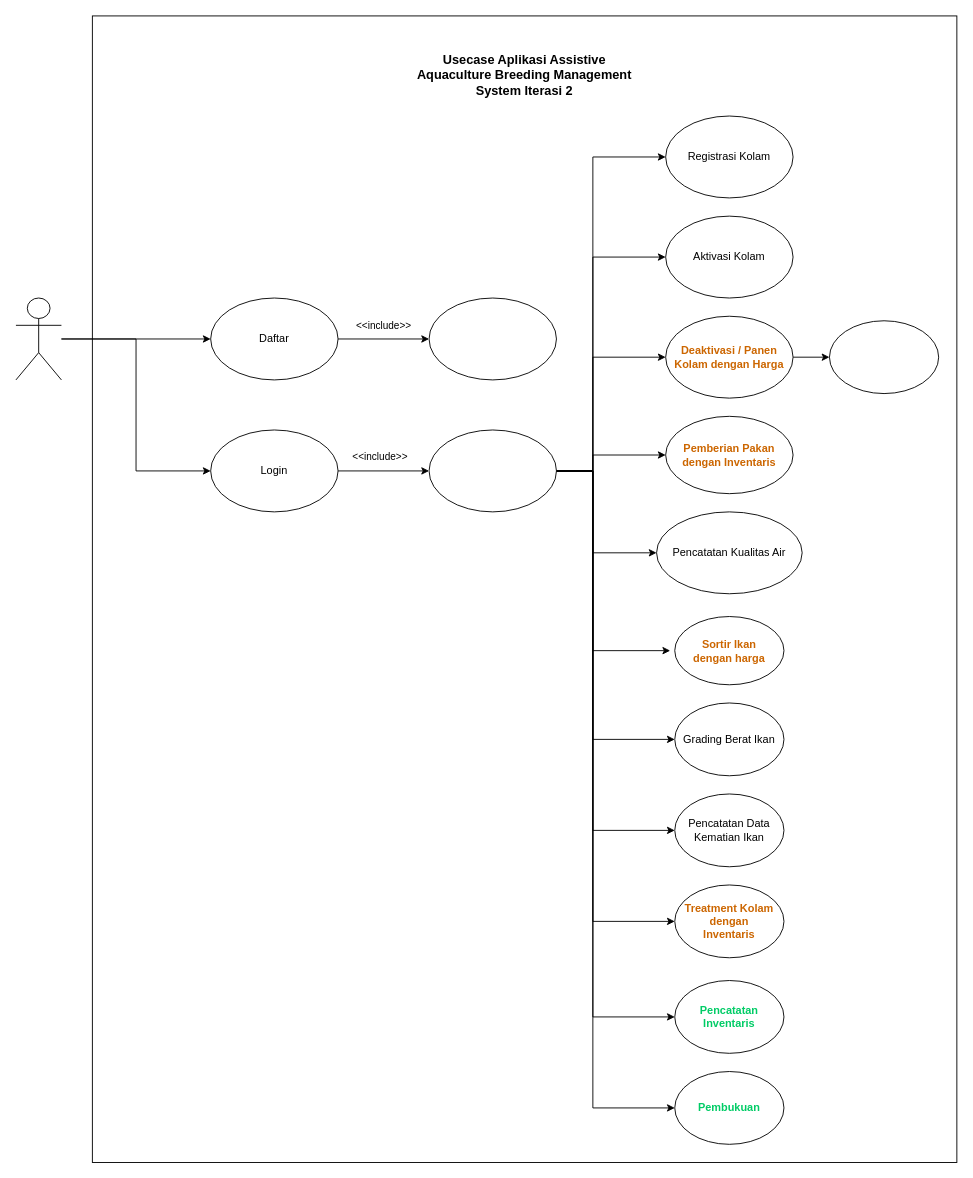
Image size: 973x1178. Some labels were removed from this diagram. The shapes that lost their labels are listed below. From the top down, each one's centre as x and y in pixels, then its label:
pixel 38 338: USER
pixel 492 338: Form Daftar
pixel 884 357: Penentuan Nilai Jual Ikan
pixel 492 470: User Authentication
